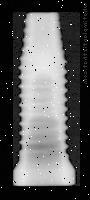Biomet 3i: (12, 11, 81, 188)
